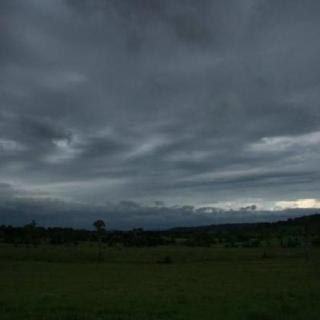Altocumulus: (0, 0, 320, 218)
